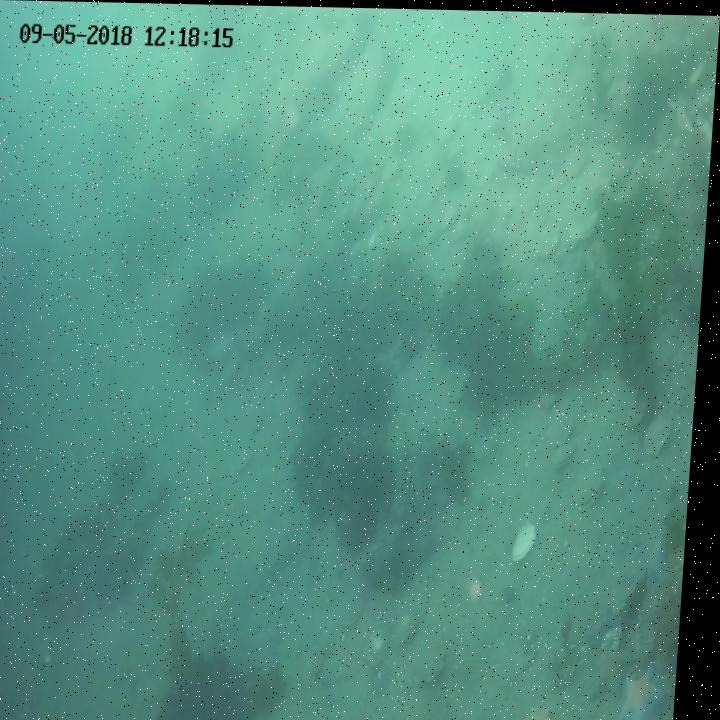scallop: (421, 635, 457, 685), (579, 459, 614, 510), (647, 410, 679, 452), (373, 624, 403, 668), (517, 518, 545, 559), (550, 408, 579, 446), (571, 206, 604, 239), (559, 145, 590, 180), (343, 587, 374, 622), (535, 225, 565, 261), (554, 435, 585, 469), (402, 612, 429, 643), (237, 441, 260, 477), (471, 571, 492, 604), (528, 703, 565, 720), (422, 224, 443, 252), (442, 201, 460, 225), (451, 221, 470, 239)
starfish: (594, 636, 642, 699), (628, 659, 676, 720), (650, 534, 682, 585), (607, 142, 642, 188)
